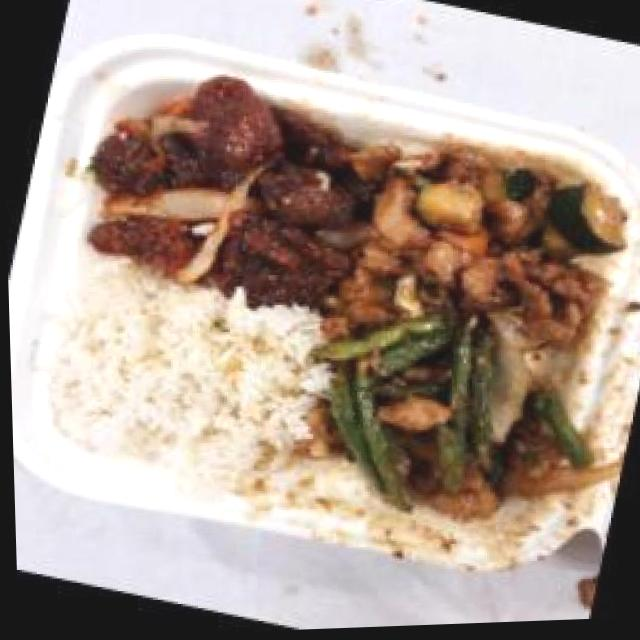Beijing Beef: (59, 47, 399, 336)
Kung Pao Chicken: (330, 112, 640, 378)
String Bean Chicken Breast: (295, 293, 604, 552)
White Steamed Rice: (26, 256, 335, 514), (542, 289, 640, 487)
